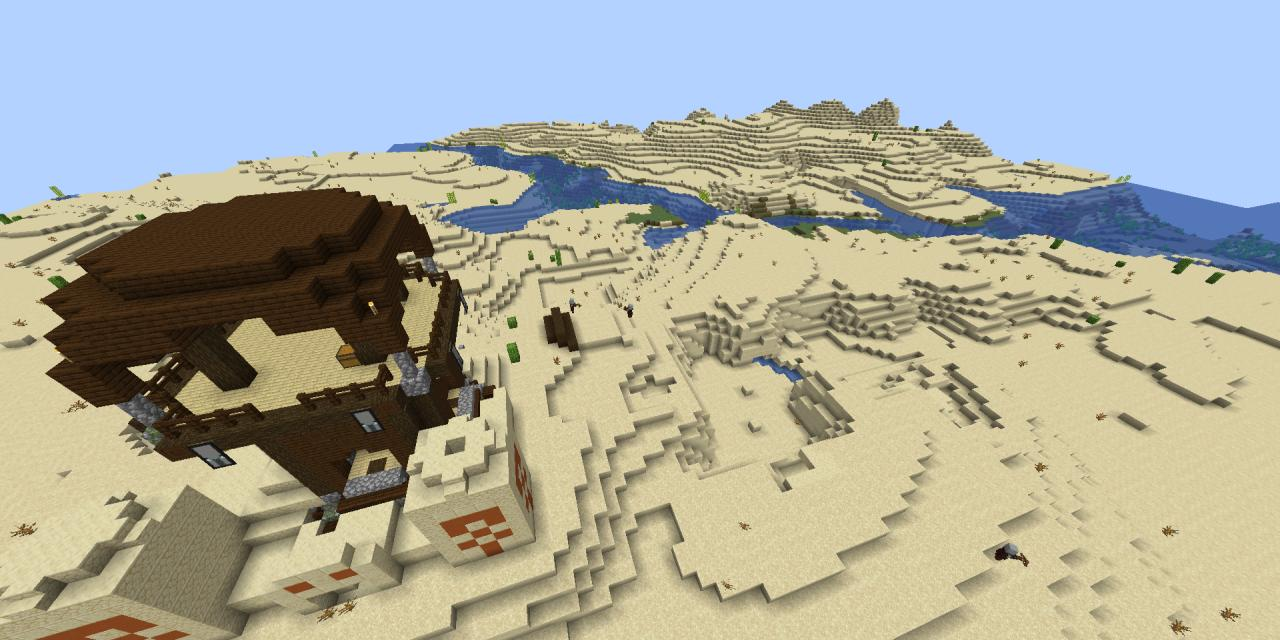desert temple: (0, 405, 542, 640)
pillager outpost: (39, 157, 483, 541)
